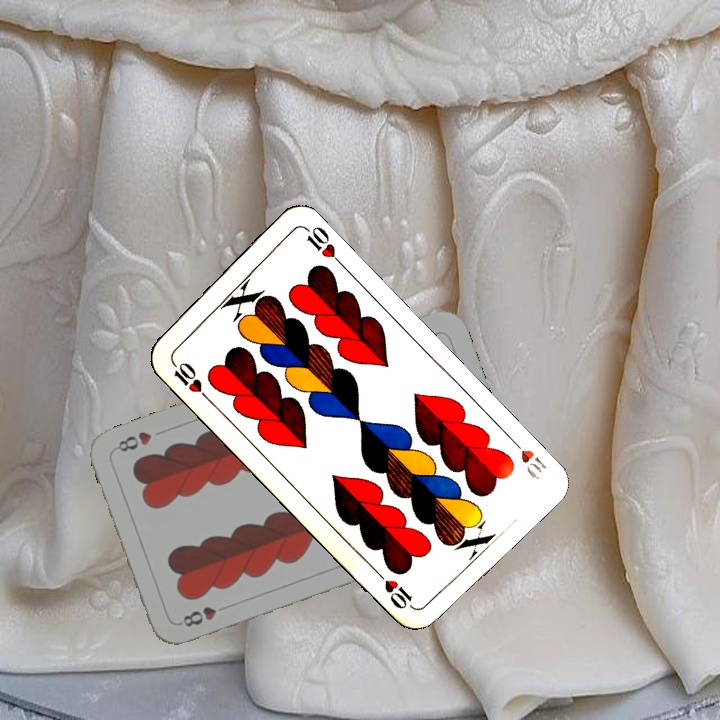H10: (504, 432, 549, 483), (166, 354, 211, 403)
H8: (178, 600, 232, 630)
